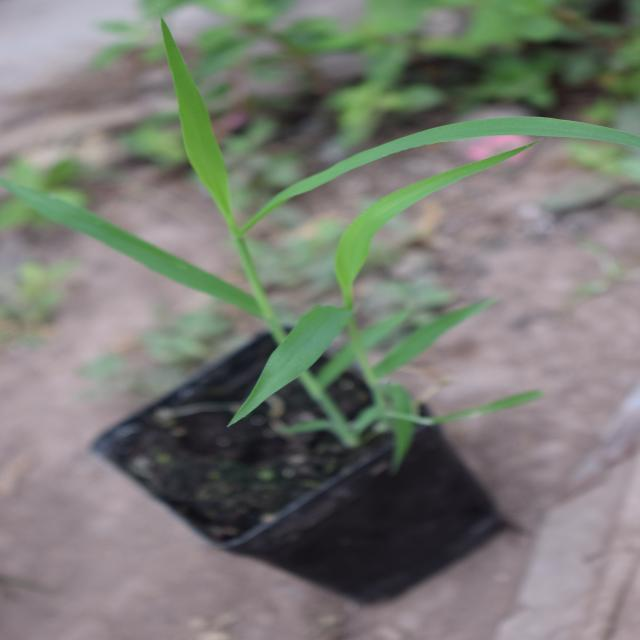crabgrass: (201, 70, 538, 544)
